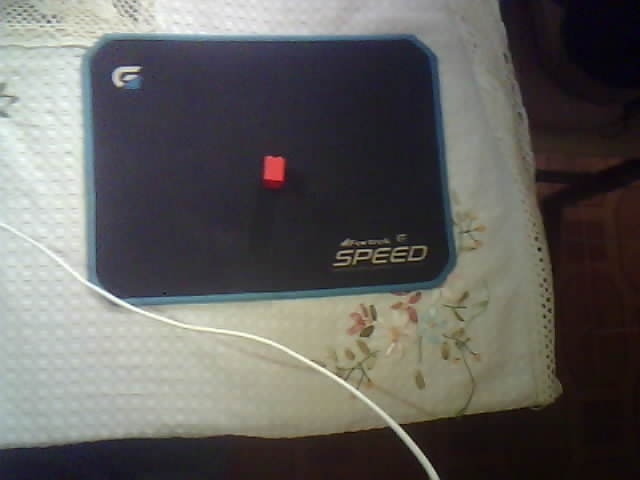lego: (260, 155, 286, 188)
